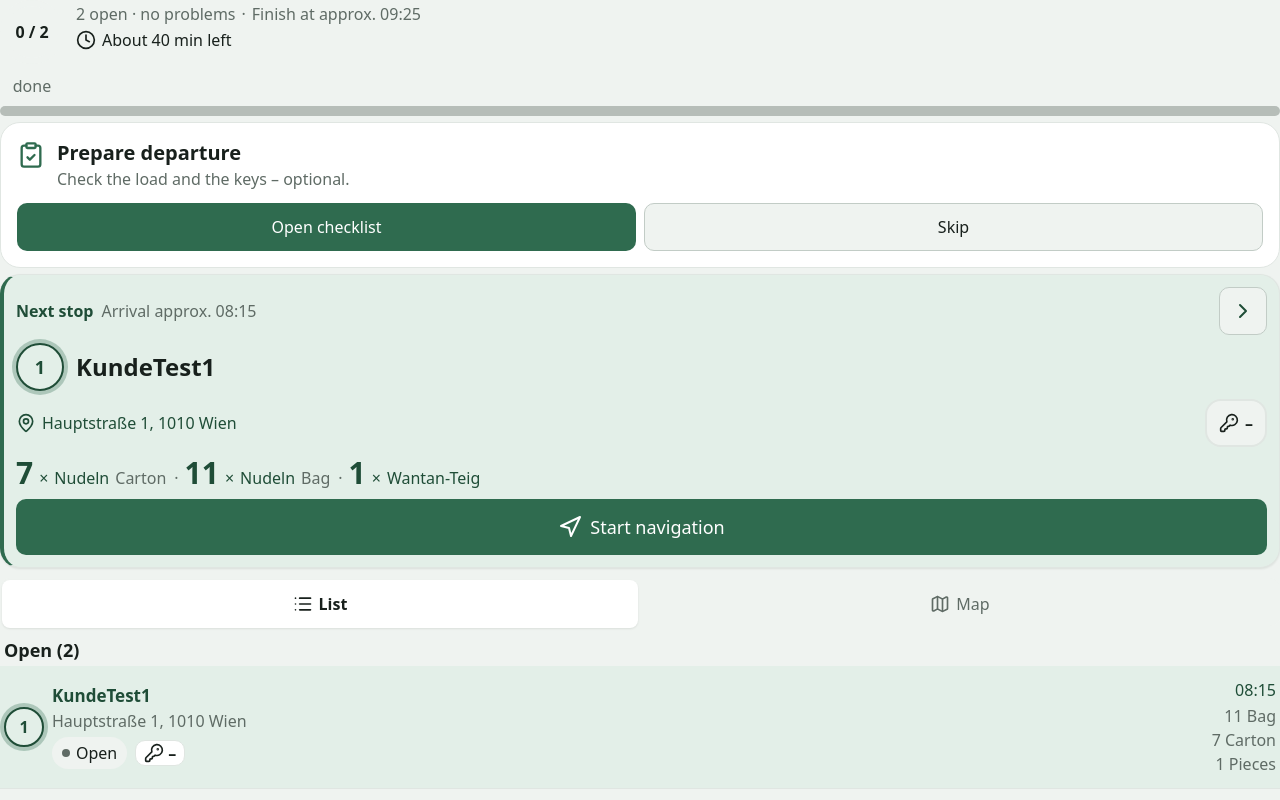
Test: departure checklist in en › ticks are one tap each, counted, and remembered on the device
Later steps or results of the test are not shown.
Click the button with test id "departure-open": [326, 227] box [17,203,636,251]
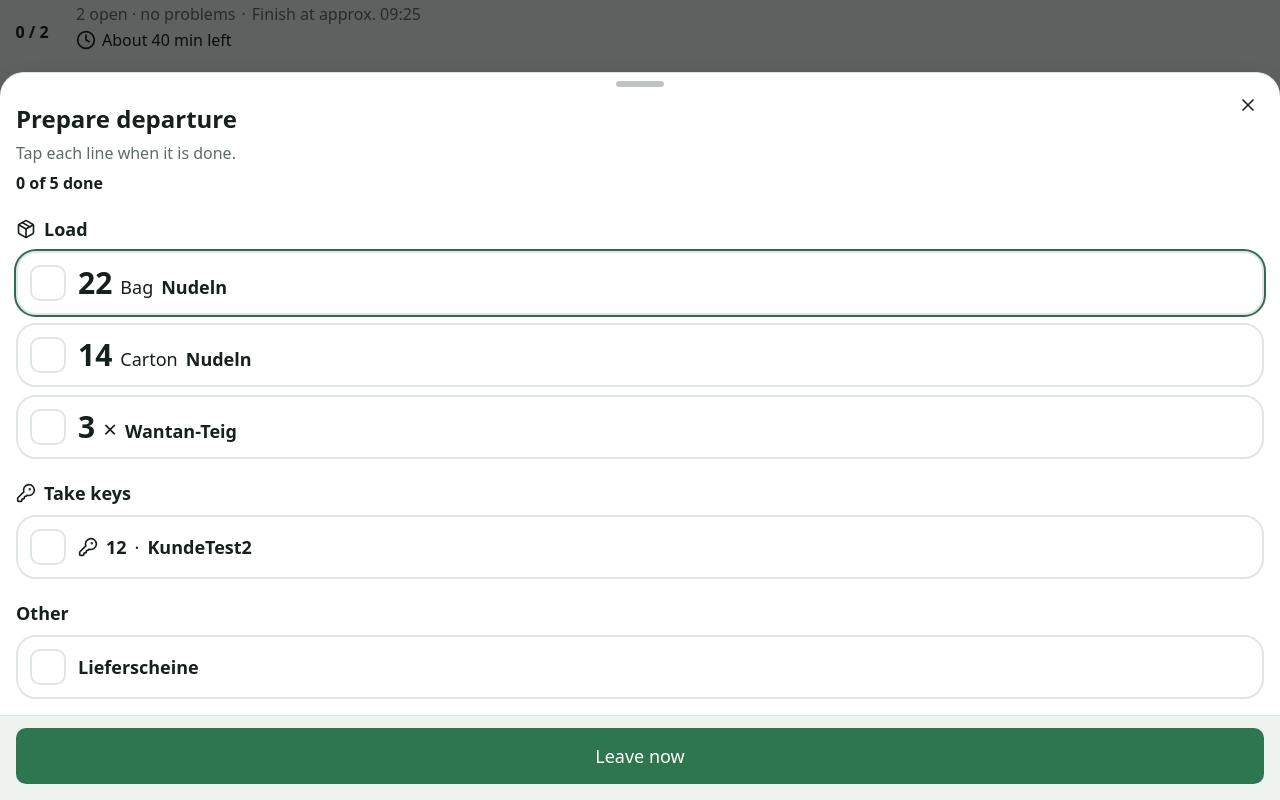
Click the checkbox with test id "departure-product": [48, 283] box [16,251,1264,315]
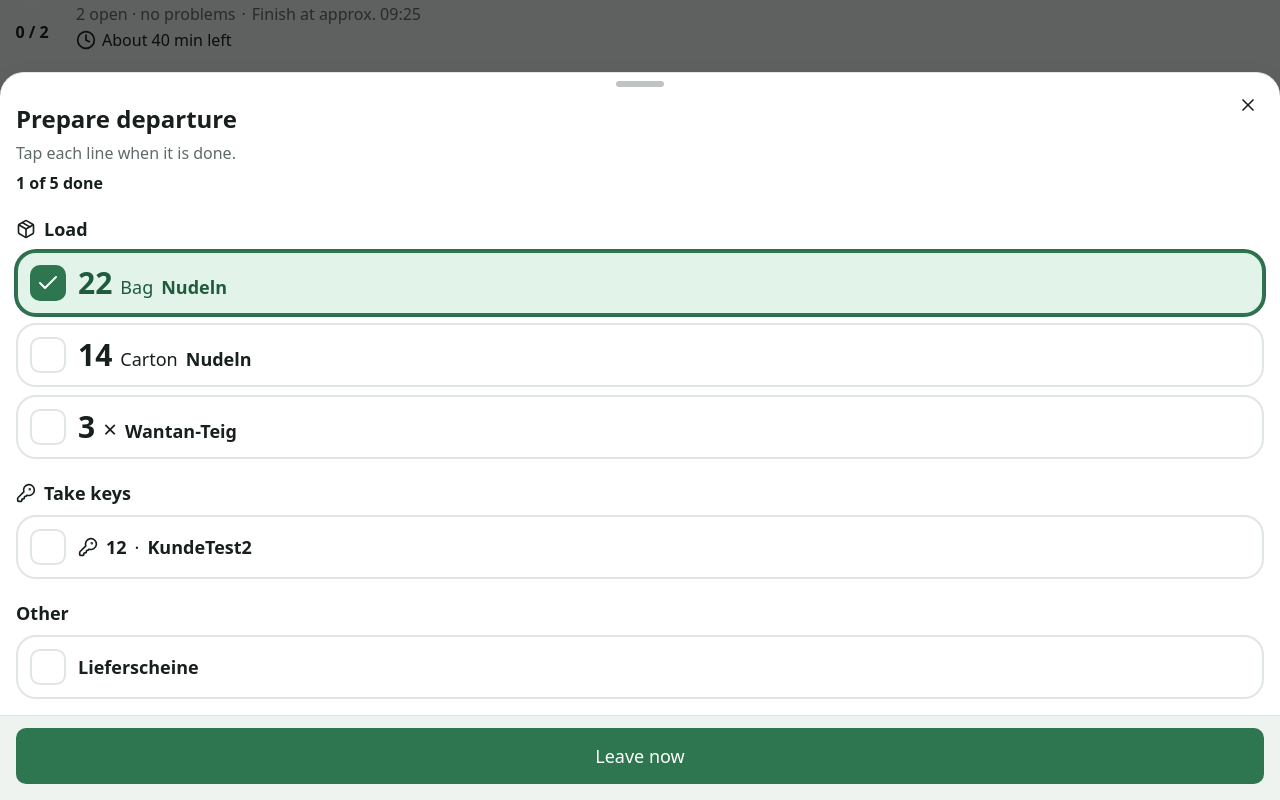
Now the checkbox with test id "departure-product" is checked
Now the text with test id "departure-progress" has attribute data-done="1", box [16,172,103,194]
Click the checkbox with test id "departure-product": [48, 283] box [16,251,1264,315]
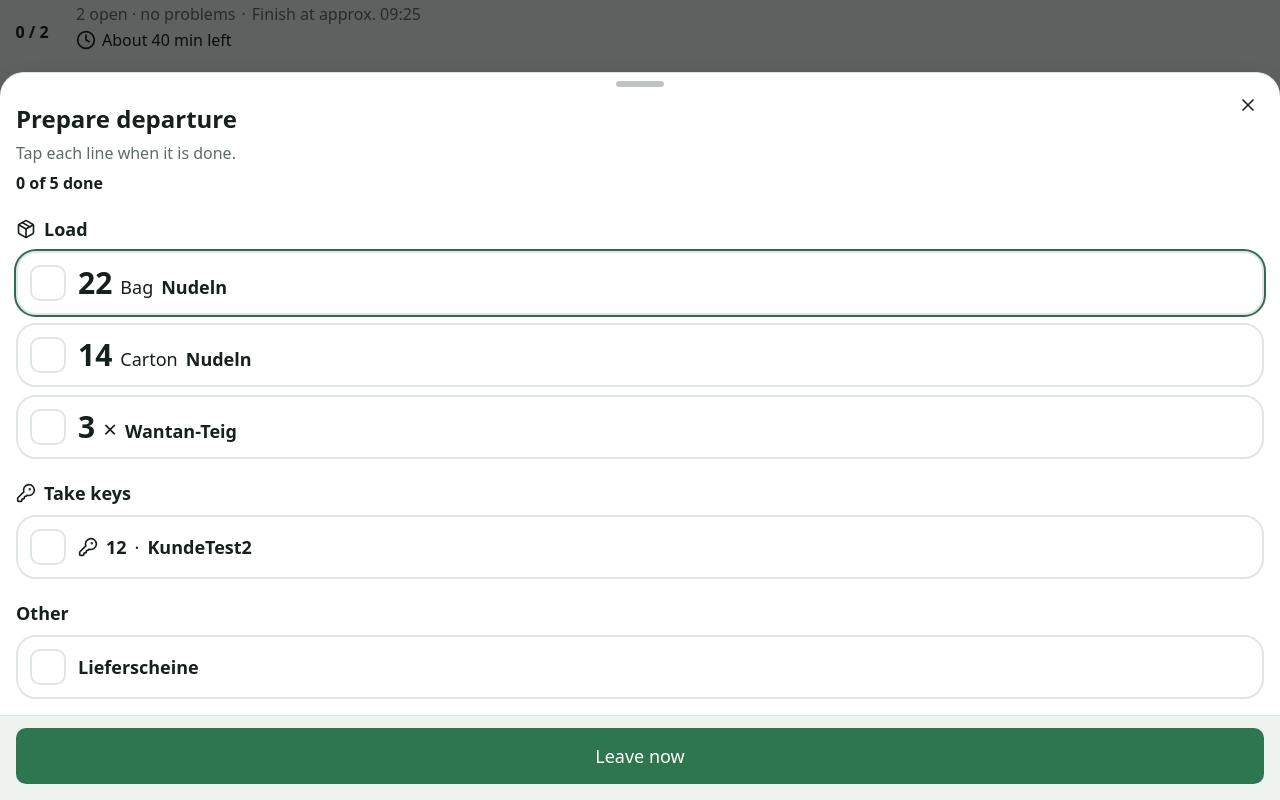
Now the checkbox with test id "departure-product" is not checked, box [16,251,1264,315]
